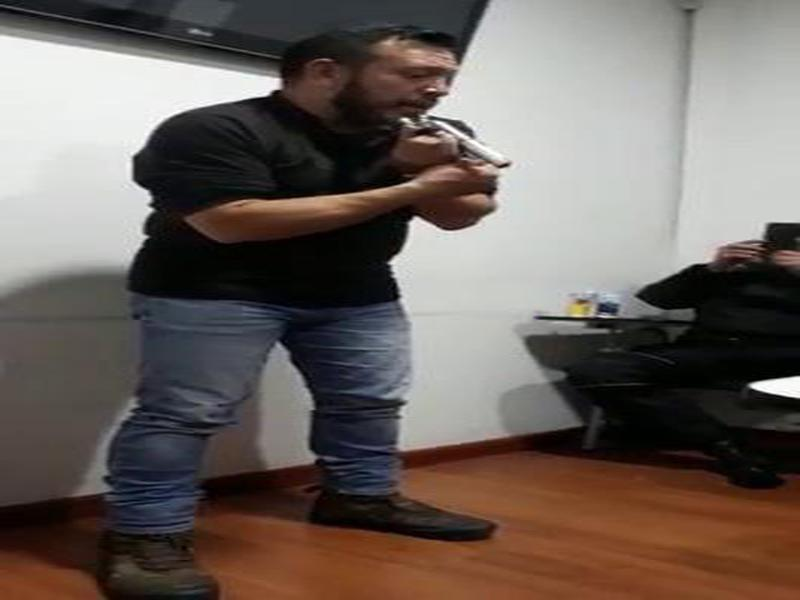Revolver: (358, 97, 556, 206)
